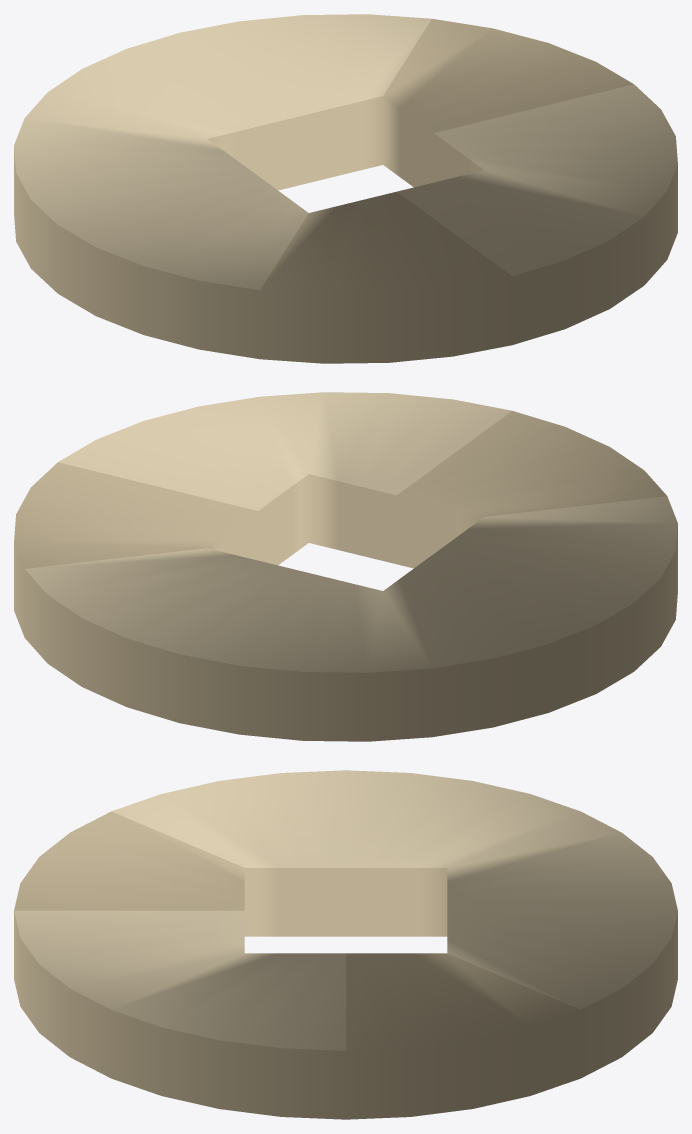
Rendered from coin.glb.
The picture shows the model from 3 angles, top to bottom: view 1: azimuth 30°, elevation 25°; view 2: azimuth 150°, elevation 25°; view 3: azimuth 270°, elevation 25°; orthographic projection.
Parts seen in each view (by area): view 1: coinBase; view 2: coinBase; view 3: coinBase.
Boxes of the visible parts, x1,y1,x2,y2 form: coinBase: (14,14,677,363); coinBase: (14,392,677,741); coinBase: (14,770,677,1119).
Bounding box in the file's own units: 0.21 × 0.024 × 0.21.
